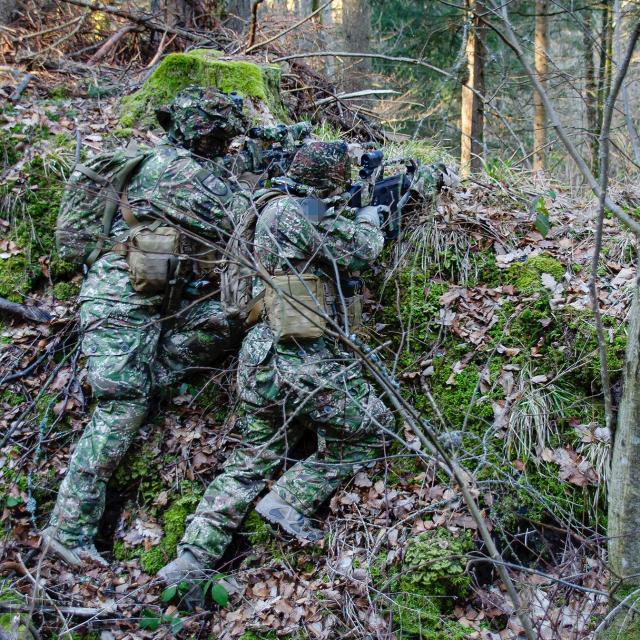Human: (46, 87, 306, 570), (153, 143, 399, 598)
